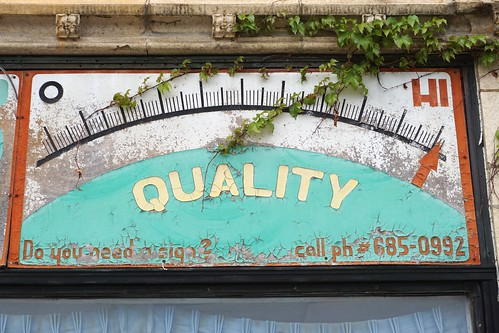sign: (24, 67, 470, 258)
